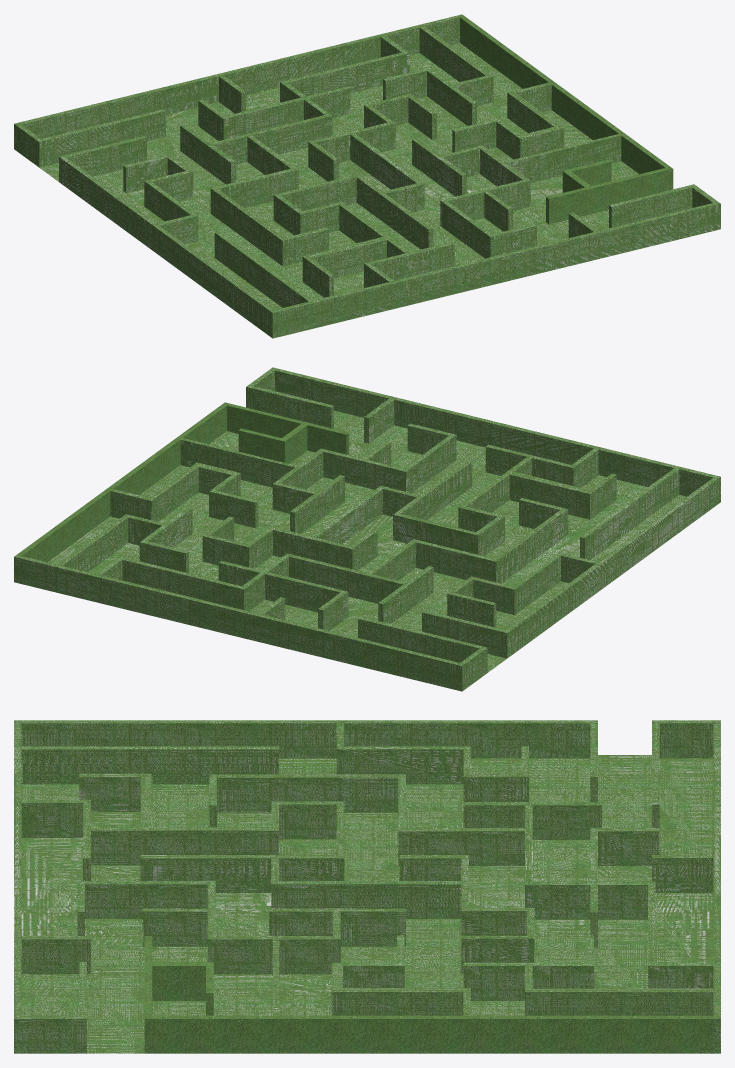
Rendered from 3D Model Maze.dae.
3 renders of one model, top to bottom at view 1: azimuth 30°, elevation 25°; view 2: azimuth 150°, elevation 25°; view 3: azimuth 270°, elevation 25°, orthographic. The views are drawn at different scales.
Parts seen in each view (by area): view 1: SketchUp (×2); view 2: SketchUp (×2); view 3: SketchUp (×2).
Boxes of the visible parts, <box> form: SketchUp (×2): <box>14,14,720,338</box>; SketchUp (×2): <box>14,367,720,691</box>; SketchUp (×2): <box>14,720,720,1053</box>.
Bounding box in the file's own units: 362 × 362 × 19.69.
2 materials, 2 textured.
